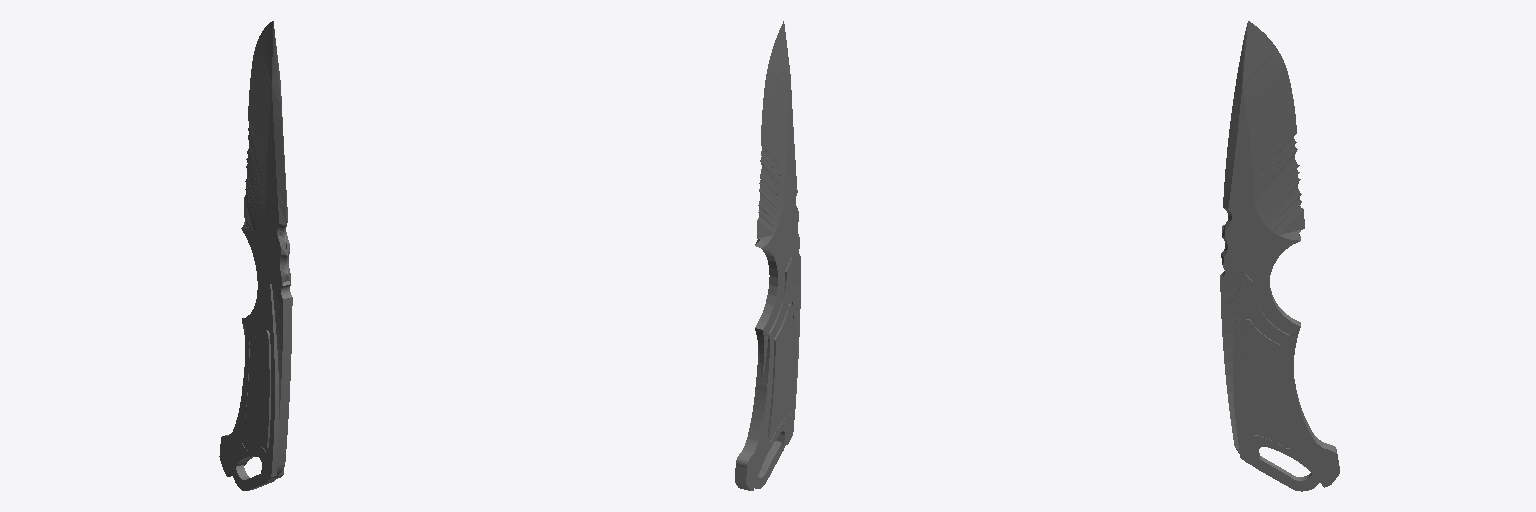
URDF robot description (object):
<?xml version="1.0"?>
<robot name="object">
  <link name="object">
    <visual>
      <origin xyz="0 0 0"/>
      <geometry>
        <mesh
          filename="../../mesh/oakink_virtual/knife_s229.stl" />
      </geometry>
      <material name="mat">
        <color rgba="0.5 0.5 0.5 1"/>
      </material>
    </visual>

    <collision>
      <origin xyz="0 0 0"/>
      <geometry>
        <mesh
          filename="../../mesh/oakink_virtual/knife_s229.stl" />
      </geometry>
    </collision>
  </link>
</robot>

--- Render facts (derived) ---
3 views of the same robot in one strip: view 1: azimuth 30°, elevation 25°; view 2: azimuth 150°, elevation 25°; view 3: azimuth 270°, elevation 25° (orthographic).
Robot: object — 1 links, 0 joints (none); root link object; default pose: all joints at 0.
Visible links, largest first — view 1: object; view 2: object; view 3: object.
Link boxes in pixels (<box>): object: <box>219,21,292,490</box>; object: <box>735,21,800,490</box>; object: <box>1220,21,1339,491</box>.
Bounding box of the posed robot: 0.0072 × 0.0522 × 0.2261 m (x, y, z).
Meshes: 1 distinct files referenced, 1 mesh visuals loaded (1 binary STL).